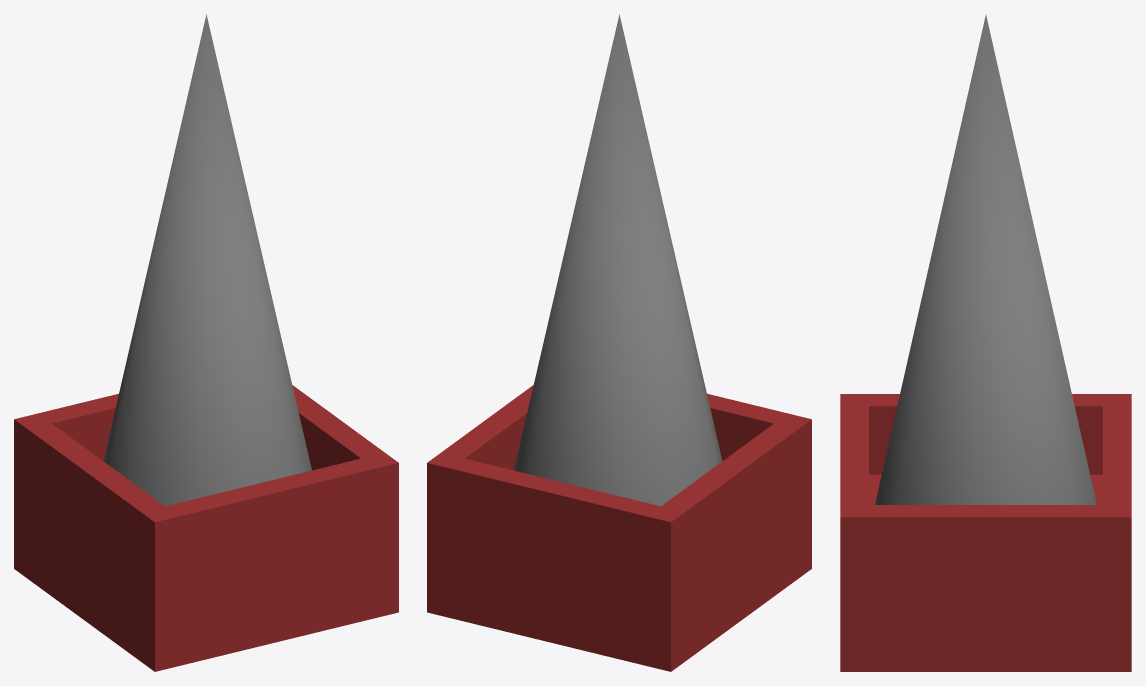
The model's file is CJ1Spike.fbx.
3 views of the same model, side by side, from view 1: azimuth 30°, elevation 25°; view 2: azimuth 150°, elevation 25°; view 3: azimuth 270°, elevation 25° (orthographic). The views are drawn at different scales.
Visible parts, largest first — view 1: group2; view 2: group2; view 3: group2.
Part boxes in pixels (x1=…): group2: x1=14, y1=14, x2=398, y2=671; group2: x1=427, y1=14, x2=811, y2=671; group2: x1=840, y1=15, x2=1131, y2=671.
Bounding box in the file's own units: 689 × 1557 × 689.
